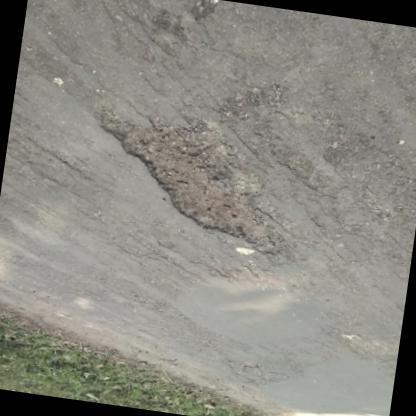pothole: (97, 105, 288, 257), (336, 325, 394, 366)
